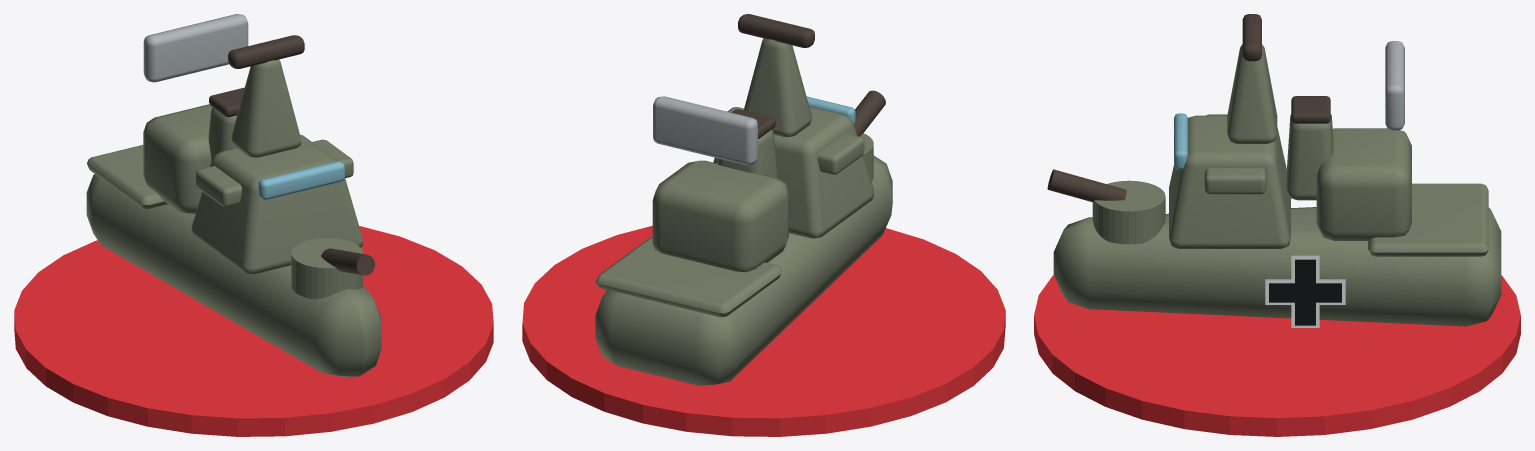
File: germany_navy_lod0.glb
3 views of the same model, side by side, from view 1: azimuth 30°, elevation 25°; view 2: azimuth 150°, elevation 25°; view 3: azimuth 270°, elevation 25° (orthographic).
Parts seen in each view (by area): view 1: body_hull, base_pedestal; view 2: body_hull, base_pedestal; view 3: body_hull, base_pedestal.
Boxes of the visible parts, x1,y1,x2,y2 form: body_hull: (86,14,381,377); base_pedestal: (14,226,493,436); body_hull: (595,14,892,385); base_pedestal: (522,225,1005,436); body_hull: (1047,14,1501,327); base_pedestal: (1034,275,1520,436).
Bounding box in the file's own units: 0.78 × 0.5386 × 0.78.
